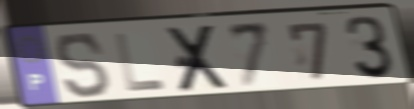3: (343, 14, 397, 82)
7: (227, 19, 272, 91), (284, 19, 330, 83)
L: (112, 31, 169, 95)
S: (53, 30, 114, 101)
X: (164, 22, 233, 95)
